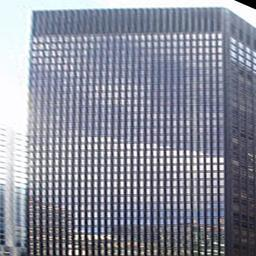building: (22, 3, 233, 256)
